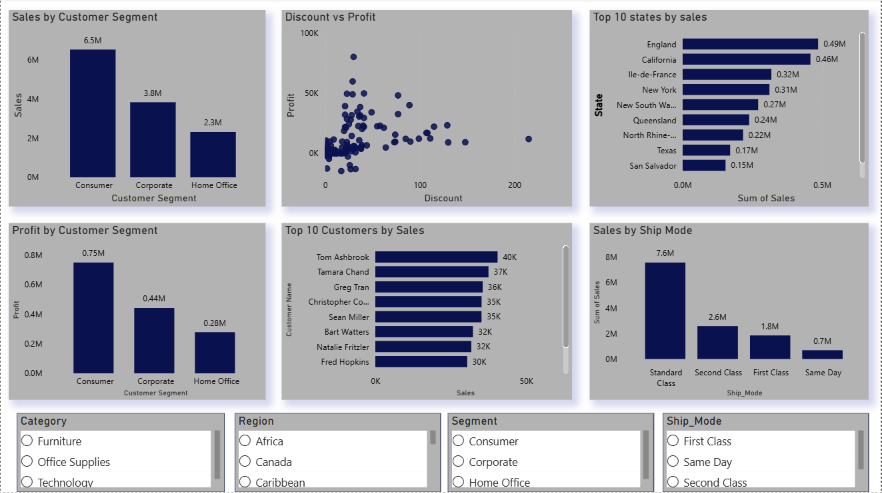

The dashboard page shown, as its layout file describes it:
{"tool":"powerbi","page":{"name":"Page 2","canvas":[1280,720],"ordinal":1},"visuals":[{"type":"clusteredColumnChart","fields":{"Category":["superstoreprroject.Segment"],"Y":["Sum(superstoreprroject.Sales)"]},"box":[12.1,18.2,374,286.2],"z":0},{"type":"clusteredColumnChart","fields":{"Category":["superstoreprroject.Segment"],"Y":["Sum(superstoreprroject.Profit)"]},"box":[12.1,327.1,374,257.4],"z":1000},{"type":"scatterChart","title":" Discount vs Profit ","fields":{"X":["Sum(superstoreprroject.Discount)"],"Y":["Sum(superstoreprroject.Profit)"],"Category":["superstoreprroject.Product_name"]},"box":[408.8,18.2,422.5,286.2],"z":2000},{"type":"clusteredBarChart","title":"Top 10 Customers by Sales","fields":{"Category":["superstoreprroject.Customer_Name"],"Y":["Sum(superstoreprroject.Sales)"]},"box":[408.8,327.1,422.5,257.4],"z":2001},{"type":"clusteredBarChart","title":"Top 10 states by sales","fields":{"Category":["superstoreprroject.State"],"Y":["Sum(superstoreprroject.Sales)"]},"box":[857,18.2,405.8,286.2],"z":2002},{"type":"columnChart","title":"Sales by Ship Mode","fields":{"Category":["superstoreprroject.Ship_Mode"],"Y":["Sum(superstoreprroject.Sales)"]},"box":[857,327.1,405.8,257.4],"z":2003},{"type":"listSlicer","fields":{"Values":["superstoreprroject.Category"]},"box":[22.7,604.2,302.8,115.1],"z":2004},{"type":"listSlicer","fields":{"Values":["superstoreprroject.Region"]},"box":[340.7,604.2,299.8,115.1],"z":2005},{"type":"listSlicer","fields":{"Values":["superstoreprroject.Segment"]},"box":[651.1,604.2,299.8,115.1],"z":2006},{"type":"listSlicer","fields":{"Values":["superstoreprroject.Ship_Mode"]},"box":[963,604.2,299.8,115.1],"z":2007}]}

Visuals, with their boxes in screenshot pixels (x1, y1, x2, y2), scaled from the page's 1280x720 canvas onto the 882x493 screenshot:
clusteredColumnChart - superstoreprroject.Segment x Sum(superstoreprroject.Sales): (8, 12, 266, 208)
clusteredColumnChart - superstoreprroject.Segment x Sum(superstoreprroject.Profit): (8, 224, 266, 400)
" Discount vs Profit " scatterChart: (282, 12, 573, 208)
"Top 10 Customers by Sales" clusteredBarChart: (282, 224, 573, 400)
"Top 10 states by sales" clusteredBarChart: (591, 12, 870, 208)
"Sales by Ship Mode" columnChart: (591, 224, 870, 400)
listSlicer - superstoreprroject.Category: (16, 414, 224, 492)
listSlicer - superstoreprroject.Region: (235, 414, 441, 492)
listSlicer - superstoreprroject.Segment: (449, 414, 655, 492)
listSlicer - superstoreprroject.Ship_Mode: (664, 414, 870, 492)
